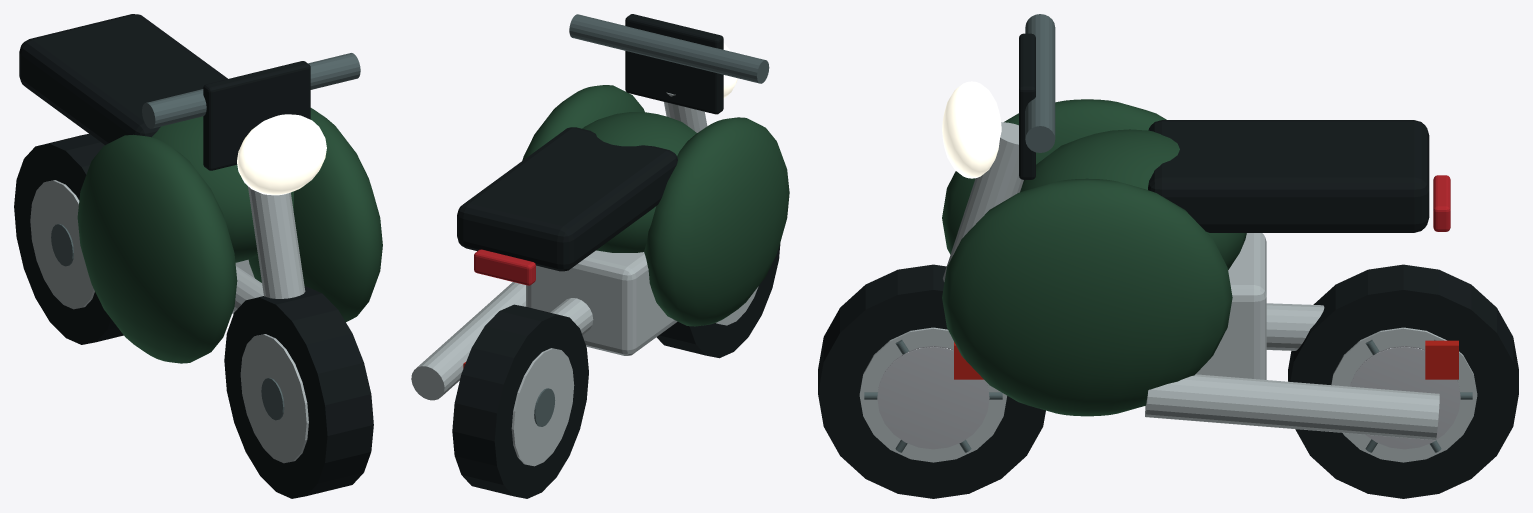
File: hiperreal.glb
3 views of the same model, side by side, from view 1: azimuth 30°, elevation 25°; view 2: azimuth 150°, elevation 25°; view 3: azimuth 270°, elevation 25° (orthographic). The views are drawn at different scales.
Visible parts, largest first — view 1: Sport fairing, Tyre.001, Saddle, Sport fairing.001, Tyre, Windshield, Rim.001, Headlight, Rim, Fuel tank, Fork, Handlebar (+3 smaller); view 2: Sport fairing, Saddle, Tyre, Engine, Windshield, Handlebar, Rim, Fuel tank, Exhaust, Tyre.001, Sport fairing.001, Rear light (+3 smaller); view 3: Sport fairing.001, Saddle, Tyre, Tyre.001, Exhaust, Hiperreal disco de freno, Fuel tank, Engine, Sport fairing, Rim.001, Rim, Hiperreal disco de freno.001 (+7 smaller).
Boxes of the visible parts, left/top/right/bottom form: Sport fairing: left=77, top=134, right=237, bottom=363; Tyre.001: left=224, top=286, right=373, bottom=498; Saddle: left=19, top=14, right=227, bottom=145; Sport fairing.001: left=248, top=108, right=382, bottom=321; Tyre: left=14, top=134, right=123, bottom=344; Windshield: left=203, top=61, right=310, bottom=170; Rim.001: left=240, top=334, right=308, bottom=463; Headlight: left=237, top=114, right=326, bottom=195; Rim: left=30, top=180, right=94, bottom=309; Fuel tank: left=152, top=116, right=293, bottom=262; Fork: left=248, top=186, right=305, bottom=298; Handlebar: left=142, top=53, right=360, bottom=128; Sport fairing: left=644, top=117, right=789, bottom=326; Saddle: left=457, top=127, right=677, bottom=271; Tyre: left=452, top=304, right=588, bottom=498; Engine: left=526, top=250, right=677, bottom=355; Windshield: left=625, top=14, right=723, bottom=114; Handlebar: left=569, top=14, right=769, bottom=83; Rim: left=511, top=348, right=574, bottom=466; Fuel tank: left=582, top=112, right=696, bottom=252; Exhaust: left=411, top=282, right=525, bottom=400; Tyre.001: left=656, top=243, right=780, bottom=358; Sport fairing.001: left=522, top=85, right=644, bottom=160; Rear light: left=474, top=249, right=535, bottom=285; Sport fairing.001: left=942, top=178, right=1232, bottom=416; Saddle: left=1148, top=120, right=1429, bottom=232; Tyre: left=1288, top=264, right=1518, bottom=498; Tyre.001: left=818, top=264, right=1045, bottom=498; Exhaust: left=1145, top=374, right=1439, bottom=440; Hiperreal disco de freno: left=877, top=346, right=989, bottom=449; Fuel tank: left=1020, top=129, right=1246, bottom=269; Engine: left=1196, top=233, right=1266, bottom=379; Sport fairing: left=942, top=99, right=1166, bottom=254; Rim.001: left=859, top=327, right=1006, bottom=462; Rim: left=1331, top=327, right=1477, bottom=462; Hiperreal disco de freno.001: left=1350, top=346, right=1460, bottom=449.
Size of the model in its own units: 0.4114 by 0.6286 by 0.9371.
